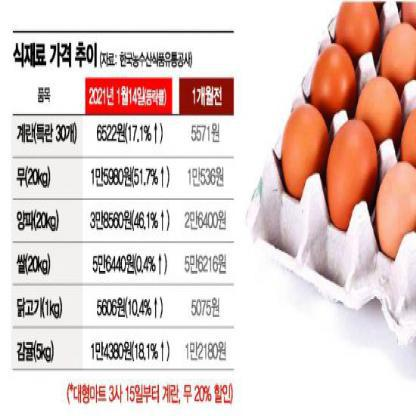egg: (325, 115, 372, 242), (368, 162, 416, 270), (280, 109, 333, 200), (354, 58, 403, 152), (309, 34, 358, 126), (323, 0, 378, 64), (377, 13, 415, 95)
